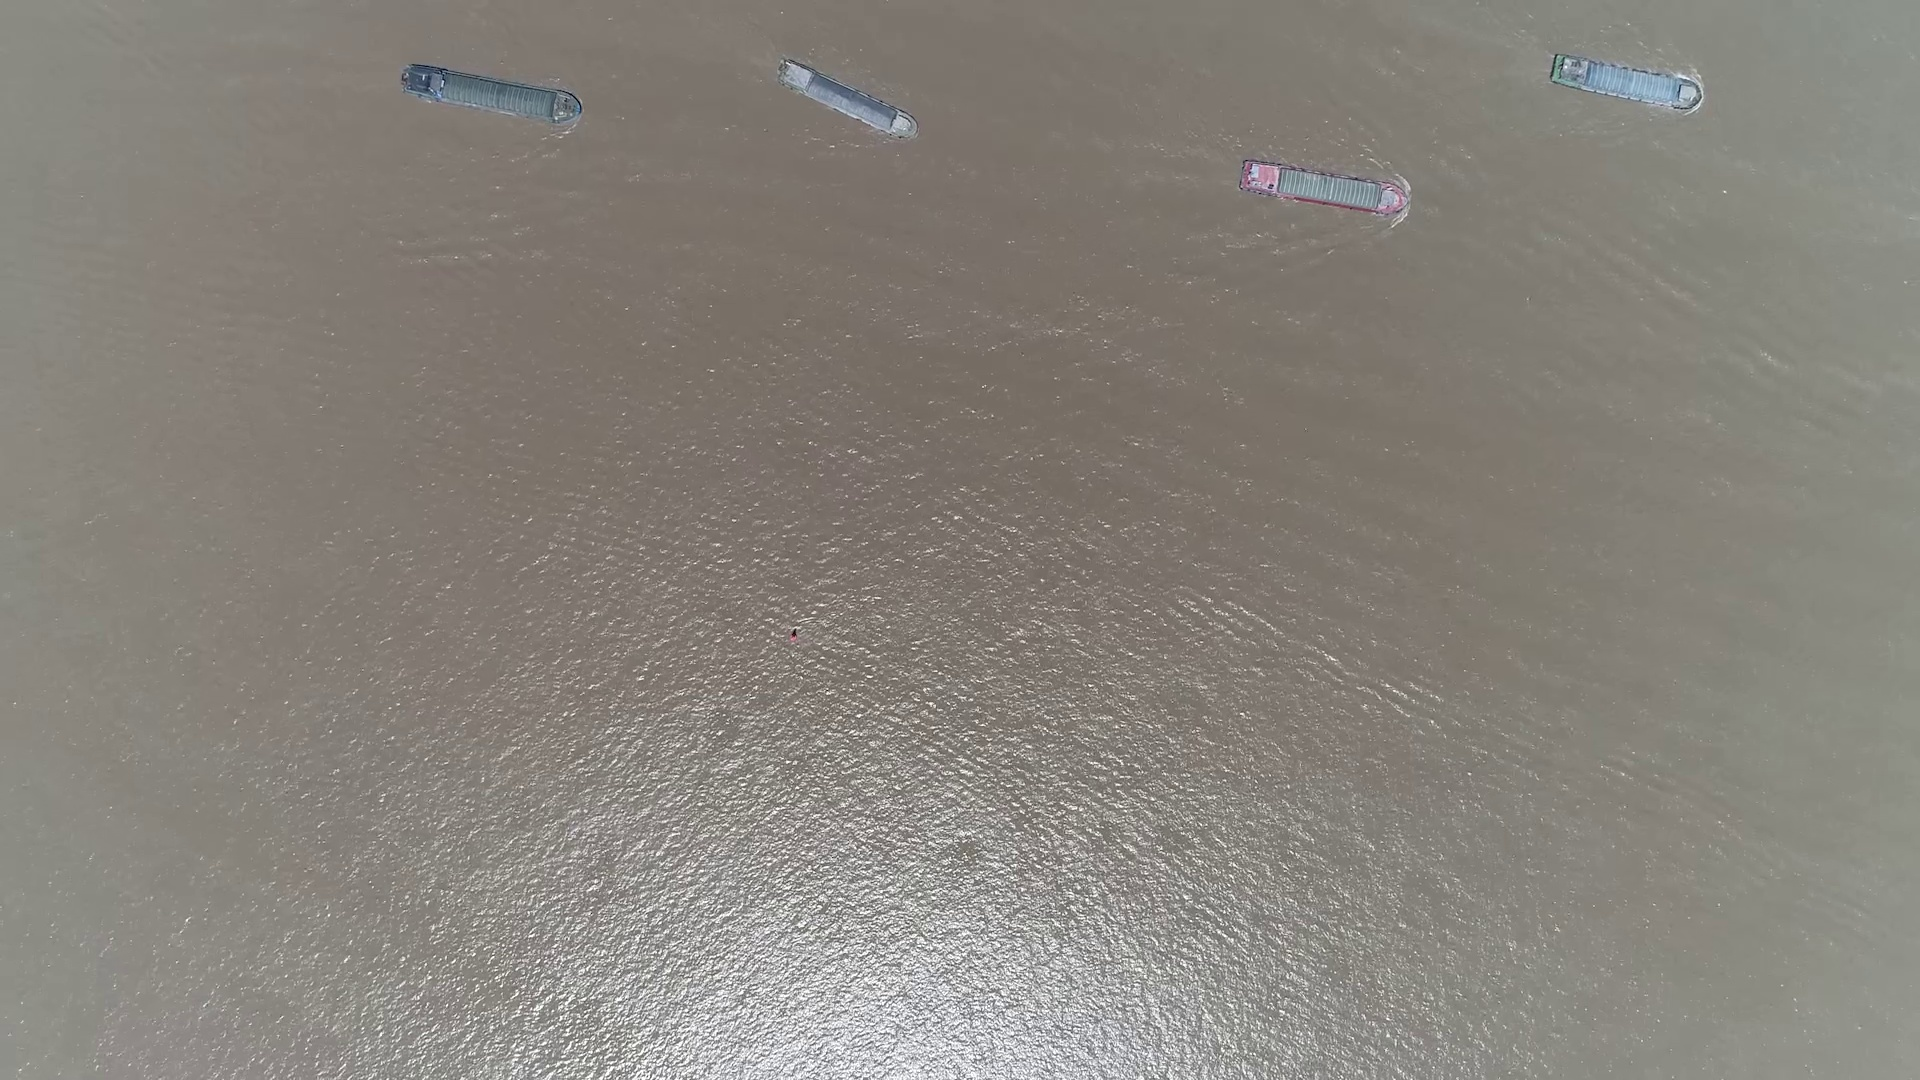ship: (401, 65, 582, 125), (777, 65, 916, 138), (1236, 161, 1411, 218), (1549, 55, 1702, 109)
